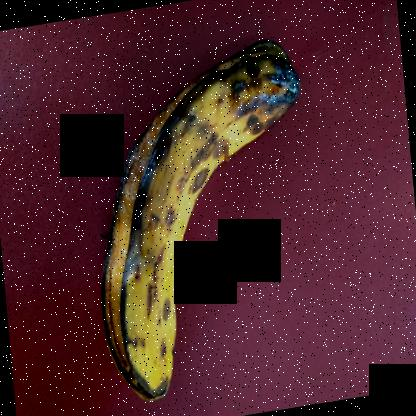rotten: (89, 13, 322, 407)
